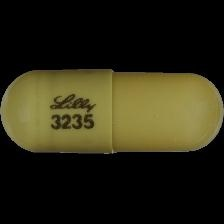50436-9979: (0, 0, 224, 224)
